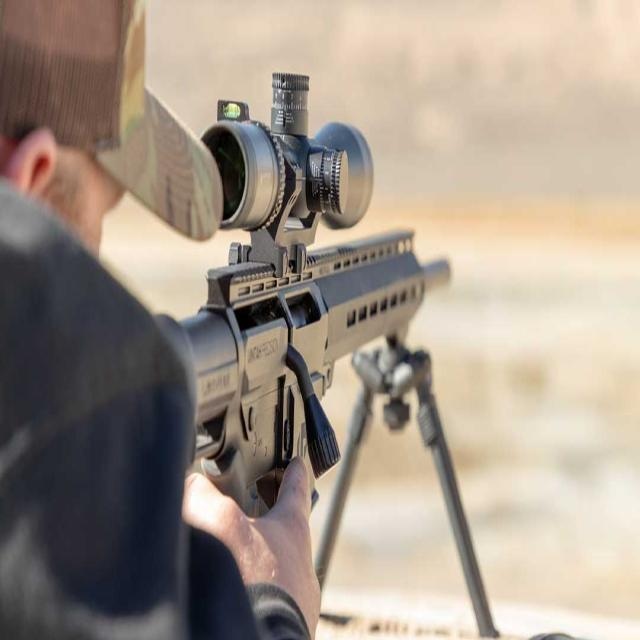Rifle: (160, 75, 450, 524)
